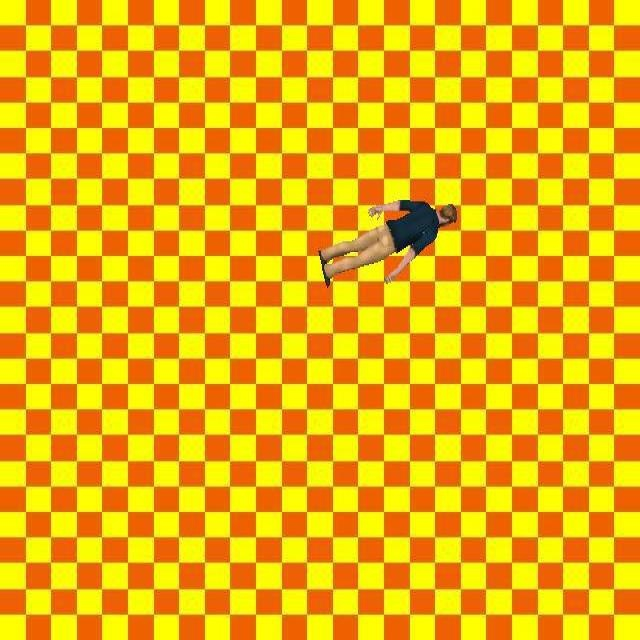obstacle: (317, 197, 459, 291)
